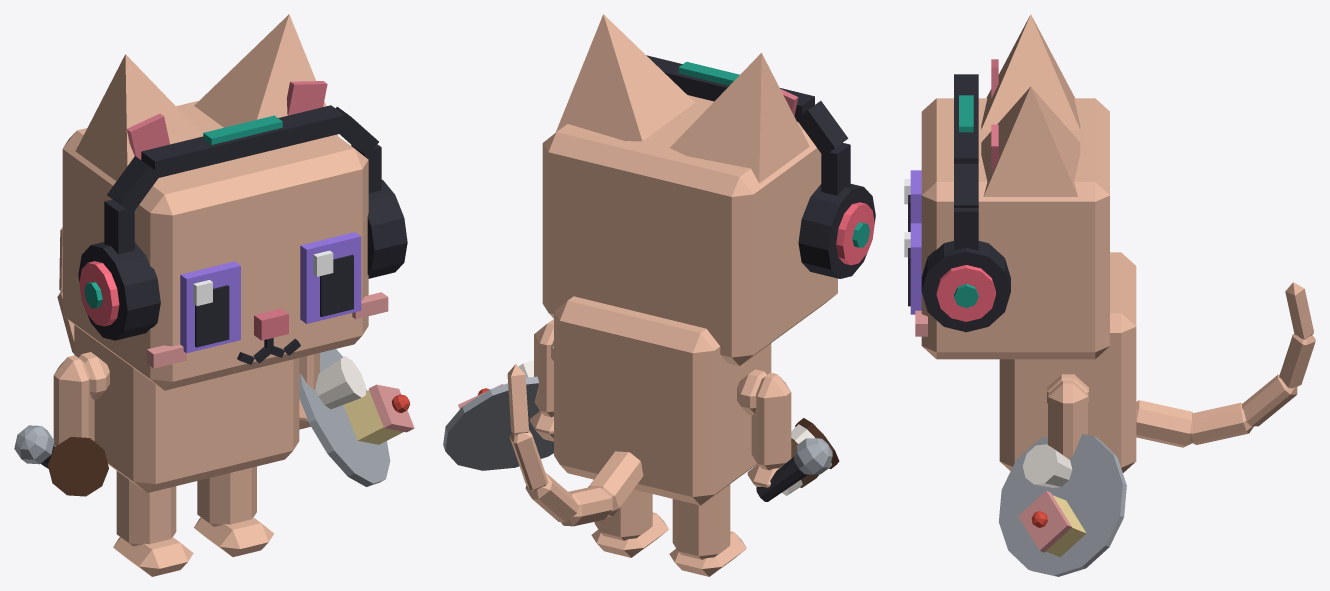
The model's file is CatCafe_Cat_Sphynx_Work.glb.
3 renders of one model, left to right at view 1: azimuth 30°, elevation 25°; view 2: azimuth 150°, elevation 25°; view 3: azimuth 270°, elevation 25°, orthographic. The views are drawn at different scales.
Visible parts, largest first — view 1: CatCafe_Cat_Sphynx_Work_Head, CatCafe_Cat_Sphynx_Work_Body, CatCafe_Cat_Sphynx_Work_Prop, CatCafe_Cat_Sphynx_Work_Held_Waiter, CatCafe_Cat_Sphynx_Work_EarL, CatCafe_Cat_Sphynx_Work_EarR, CatCafe_Cat_Sphynx_Work_LegB2, CatCafe_Cat_Sphynx_Work_Eye1, CatCafe_Cat_Sphynx_Work_Eye2, CatCafe_Cat_Sphynx_Work_LegB1, CatCafe_Cat_Sphynx_Work_LegF2, CatCafe_Cat_Sphynx_Work_Held_Barista (+3 smaller); view 2: CatCafe_Cat_Sphynx_Work_Head, CatCafe_Cat_Sphynx_Work_Body, CatCafe_Cat_Sphynx_Work_Prop, CatCafe_Cat_Sphynx_Work_EarL, CatCafe_Cat_Sphynx_Work_EarR, CatCafe_Cat_Sphynx_Work_Tail, CatCafe_Cat_Sphynx_Work_Held_Waiter, CatCafe_Cat_Sphynx_Work_LegB2, CatCafe_Cat_Sphynx_Work_LegF2, CatCafe_Cat_Sphynx_Work_LegB1, CatCafe_Cat_Sphynx_Work_LegF1, CatCafe_Cat_Sphynx_Work_Held_Entertainer (+1 smaller); view 3: CatCafe_Cat_Sphynx_Work_Head, CatCafe_Cat_Sphynx_Work_Held_Waiter, CatCafe_Cat_Sphynx_Work_Body, CatCafe_Cat_Sphynx_Work_Prop, CatCafe_Cat_Sphynx_Work_EarL, CatCafe_Cat_Sphynx_Work_Tail, CatCafe_Cat_Sphynx_Work_EarR, CatCafe_Cat_Sphynx_Work_LegF1, CatCafe_Cat_Sphynx_Work_Eye1, CatCafe_Cat_Sphynx_Work_Eye2.
Part boxes in pixels (x1=…): CatCafe_Cat_Sphynx_Work_Head: x1=62, y1=100, x2=388, y2=390; CatCafe_Cat_Sphynx_Work_Body: x1=74, y1=325, x2=299, y2=492; CatCafe_Cat_Sphynx_Work_Prop: x1=78, y1=105, x2=407, y2=340; CatCafe_Cat_Sphynx_Work_Held_Waiter: x1=299, y1=349, x2=414, y2=486; CatCafe_Cat_Sphynx_Work_EarL: x1=194, y1=14, x2=338, y2=136; CatCafe_Cat_Sphynx_Work_EarR: x1=75, y1=54, x2=203, y2=180; CatCafe_Cat_Sphynx_Work_LegB2: x1=113, y1=471, x2=193, y2=576; CatCafe_Cat_Sphynx_Work_Eye1: x1=300, y1=232, x2=361, y2=323; CatCafe_Cat_Sphynx_Work_Eye2: x1=180, y1=261, x2=240, y2=353; CatCafe_Cat_Sphynx_Work_LegB1: x1=194, y1=466, x2=273, y2=556; CatCafe_Cat_Sphynx_Work_LegF2: x1=53, y1=355, x2=94, y2=446; CatCafe_Cat_Sphynx_Work_Held_Barista: x1=48, y1=437, x2=108, y2=496; CatCafe_Cat_Sphynx_Work_Head: x1=542, y1=95, x2=837, y2=365; CatCafe_Cat_Sphynx_Work_Body: x1=551, y1=296, x2=771, y2=505; CatCafe_Cat_Sphynx_Work_Prop: x1=646, y1=55, x2=875, y2=278; CatCafe_Cat_Sphynx_Work_EarL: x1=555, y1=14, x2=695, y2=141; CatCafe_Cat_Sphynx_Work_EarR: x1=670, y1=53, x2=809, y2=183; CatCafe_Cat_Sphynx_Work_Tail: x1=507, y1=364, x2=643, y2=526; CatCafe_Cat_Sphynx_Work_Held_Waiter: x1=443, y1=360, x2=553, y2=470; CatCafe_Cat_Sphynx_Work_LegB2: x1=669, y1=484, x2=746, y2=576; CatCafe_Cat_Sphynx_Work_LegF2: x1=747, y1=372, x2=791, y2=487; CatCafe_Cat_Sphynx_Work_LegB1: x1=591, y1=489, x2=668, y2=557; CatCafe_Cat_Sphynx_Work_LegF1: x1=530, y1=319, x2=553, y2=441; CatCafe_Cat_Sphynx_Work_Held_Entertainer: x1=756, y1=438, x2=832, y2=501; CatCafe_Cat_Sphynx_Work_Head: x1=915, y1=98, x2=1109, y2=359; CatCafe_Cat_Sphynx_Work_Held_Waiter: x1=999, y1=433, x2=1126, y2=576; CatCafe_Cat_Sphynx_Work_Body: x1=999, y1=252, x2=1136, y2=472; CatCafe_Cat_Sphynx_Work_Prop: x1=921, y1=74, x2=1010, y2=332; CatCafe_Cat_Sphynx_Work_EarL: x1=981, y1=86, x2=1080, y2=196; CatCafe_Cat_Sphynx_Work_Tail: x1=1136, y1=282, x2=1315, y2=447; CatCafe_Cat_Sphynx_Work_EarR: x1=981, y1=14, x2=1080, y2=130; CatCafe_Cat_Sphynx_Work_LegF1: x1=1048, y1=380, x2=1087, y2=458; CatCafe_Cat_Sphynx_Work_Eye1: x1=904, y1=223, x2=921, y2=314; CatCafe_Cat_Sphynx_Work_Eye2: x1=904, y1=170, x2=921, y2=231.
Size of the model in its own units: 1.53 by 2.03 by 1.58.
1 material, 1 textured.
